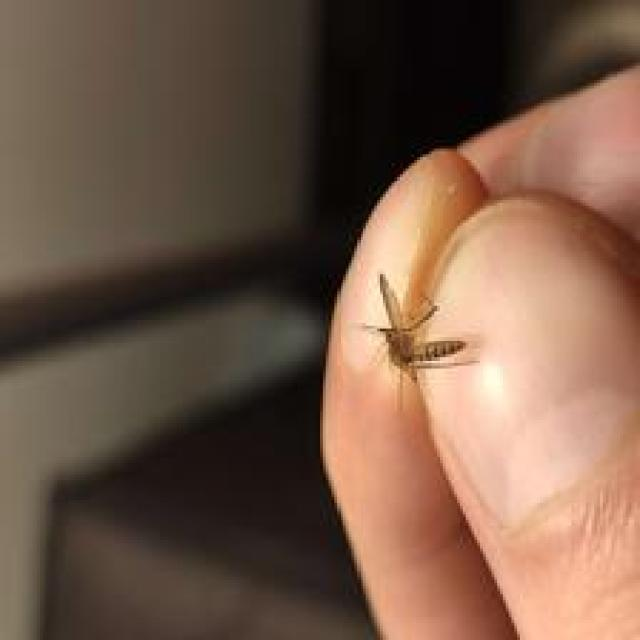Culex: (362, 271, 478, 386)
